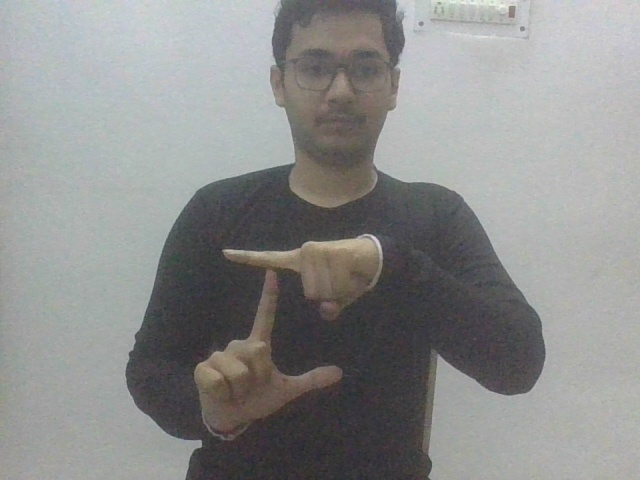J: (192, 234, 386, 440)
